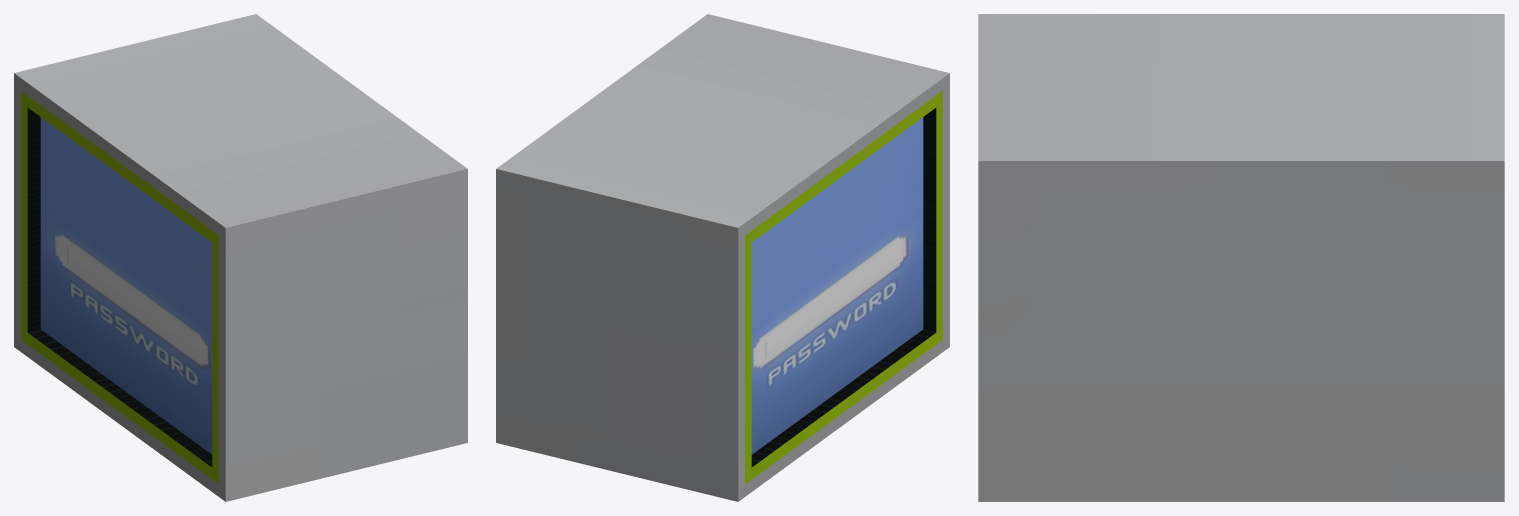
Rendered from Monitor.obj.
3 renders of one model, left to right at view 1: azimuth 30°, elevation 25°; view 2: azimuth 150°, elevation 25°; view 3: azimuth 270°, elevation 25°, orthographic. The views are drawn at different scales.
Parts seen in each view (by area): view 1: Monitor; view 2: Monitor; view 3: Monitor.
Part boxes in pixels (box(x1,y1,x2,y2)): Monitor: box(14, 14, 467, 501); Monitor: box(496, 14, 949, 501); Monitor: box(978, 14, 1504, 501).
Size of the model in its own units: 1.2 by 1.3 by 1.82.
